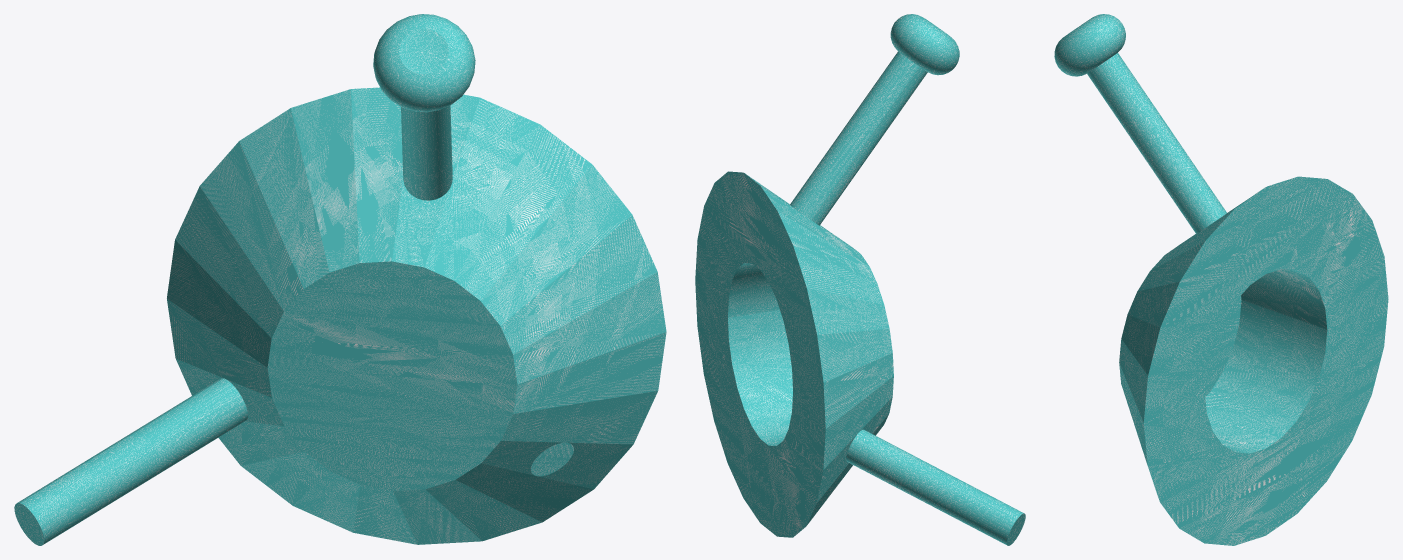
Rendered from original-13.obj.
3 views of the same model, side by side, from view 1: azimuth 30°, elevation 25°; view 2: azimuth 150°, elevation 25°; view 3: azimuth 270°, elevation 25° (orthographic). The views are drawn at different scales.
Visible parts, largest first — view 1: mesh15/mesh15-geometry/material_0/component_1#mesh15-geometry; view 2: mesh15/mesh15-geometry/material_0/component_1#mesh15-geometry; view 3: mesh15/mesh15-geometry/material_0/component_1#mesh15-geometry.
Part boxes in pixels (left/top/right/bottom): mesh15/mesh15-geometry/material_0/component_1#mesh15-geometry: left=14, top=14, right=666, bottom=545; mesh15/mesh15-geometry/material_0/component_1#mesh15-geometry: left=695, top=14, right=1025, bottom=545; mesh15/mesh15-geometry/material_0/component_1#mesh15-geometry: left=1054, top=14, right=1388, bottom=545.
Size of the model in its own units: 0.4037 by 0.4488 by 0.283.
